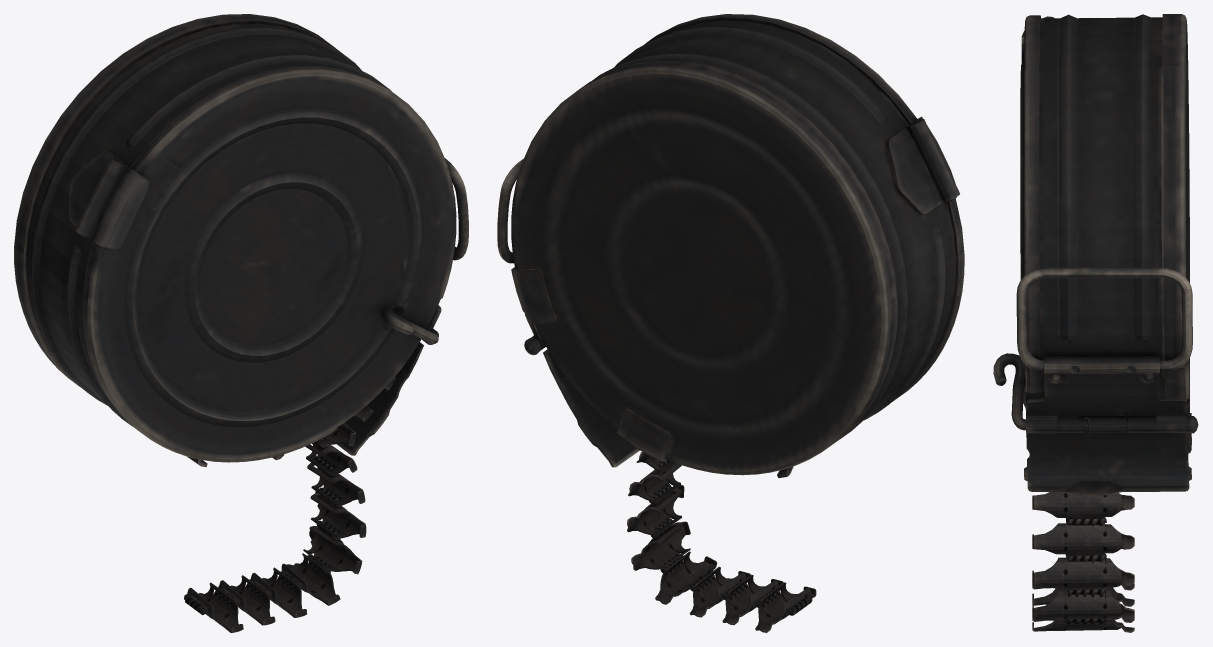
3 views of the same model, side by side, from view 1: azimuth 30°, elevation 25°; view 2: azimuth 150°, elevation 25°; view 3: azimuth 270°, elevation 25° (orthographic). The views are drawn at different scales.
Visible parts, largest first — view 1: TW_6513f0a194c72326990a3868_fed_PZ_Import; view 2: TW_6513f0a194c72326990a3868_fed_PZ_Import; view 3: TW_6513f0a194c72326990a3868_fed_PZ_Import.
Boxes of the visible parts, box(x1,y1,x2,y2) form: TW_6513f0a194c72326990a3868_fed_PZ_Import: box(14, 14, 468, 632); TW_6513f0a194c72326990a3868_fed_PZ_Import: box(497, 14, 964, 632); TW_6513f0a194c72326990a3868_fed_PZ_Import: box(993, 14, 1198, 632).
Bounding box in the file's own units: 0.0992 × 0.0448 × 0.1376.
Materials: 1 (1 with a texture image).
